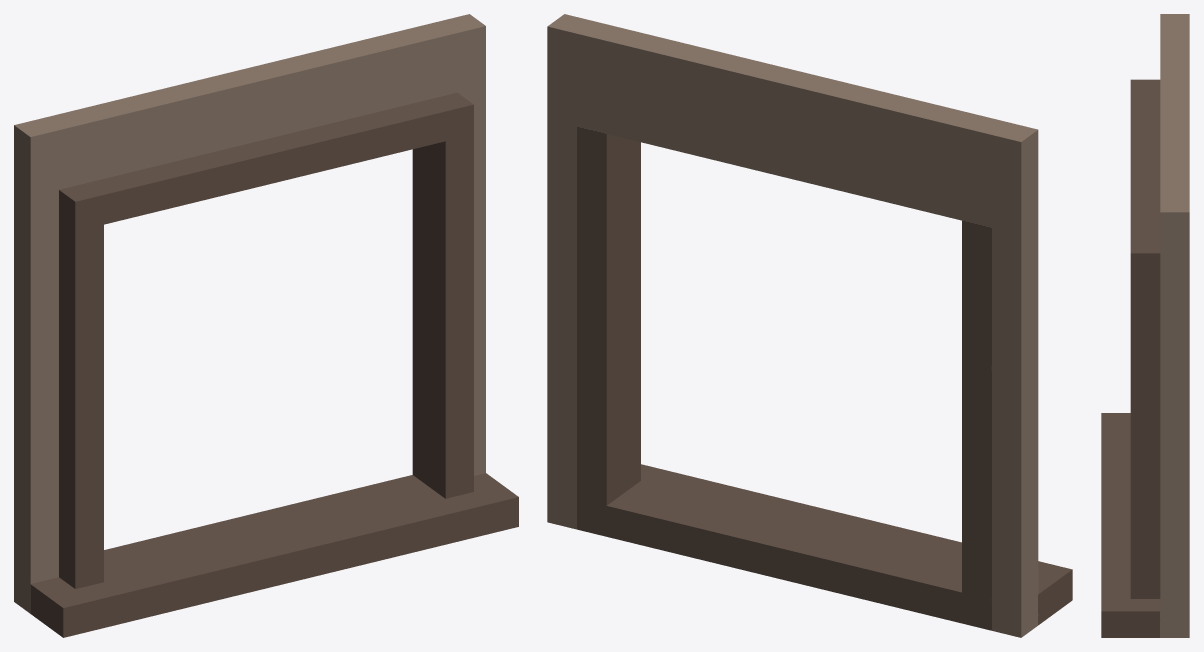
The model's file is wall_door_03.fbx.
3 views of the same model, side by side, from view 1: azimuth 30°, elevation 25°; view 2: azimuth 150°, elevation 25°; view 3: azimuth 270°, elevation 25° (orthographic). The views are drawn at different scales.
Visible parts, largest first — view 1: wall_door_03_0; view 2: wall_door_03_0; view 3: wall_door_03_0.
Boxes of the visible parts, left/top/right/bottom form: wall_door_03_0: left=14, top=14, right=518, bottom=637; wall_door_03_0: left=547, top=14, right=1072, bottom=637; wall_door_03_0: left=1101, top=14, right=1189, bottom=637.
Bounding box in the file's own units: 1600 × 300 × 1600.
